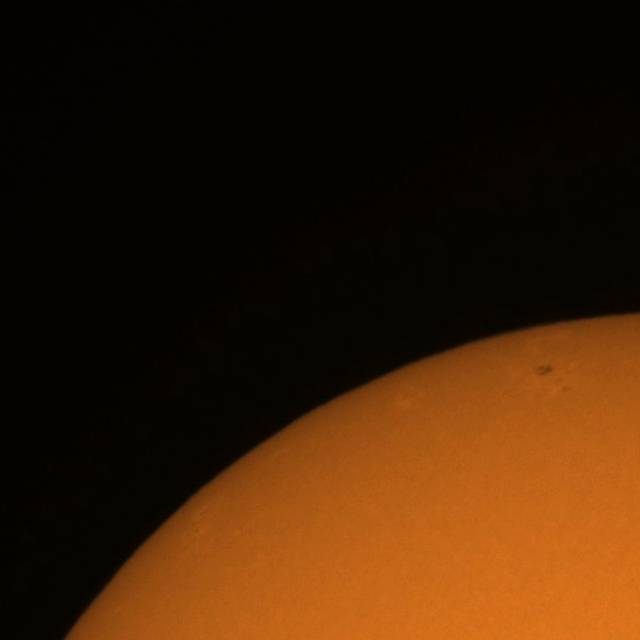sunspot: (536, 363, 555, 378)
